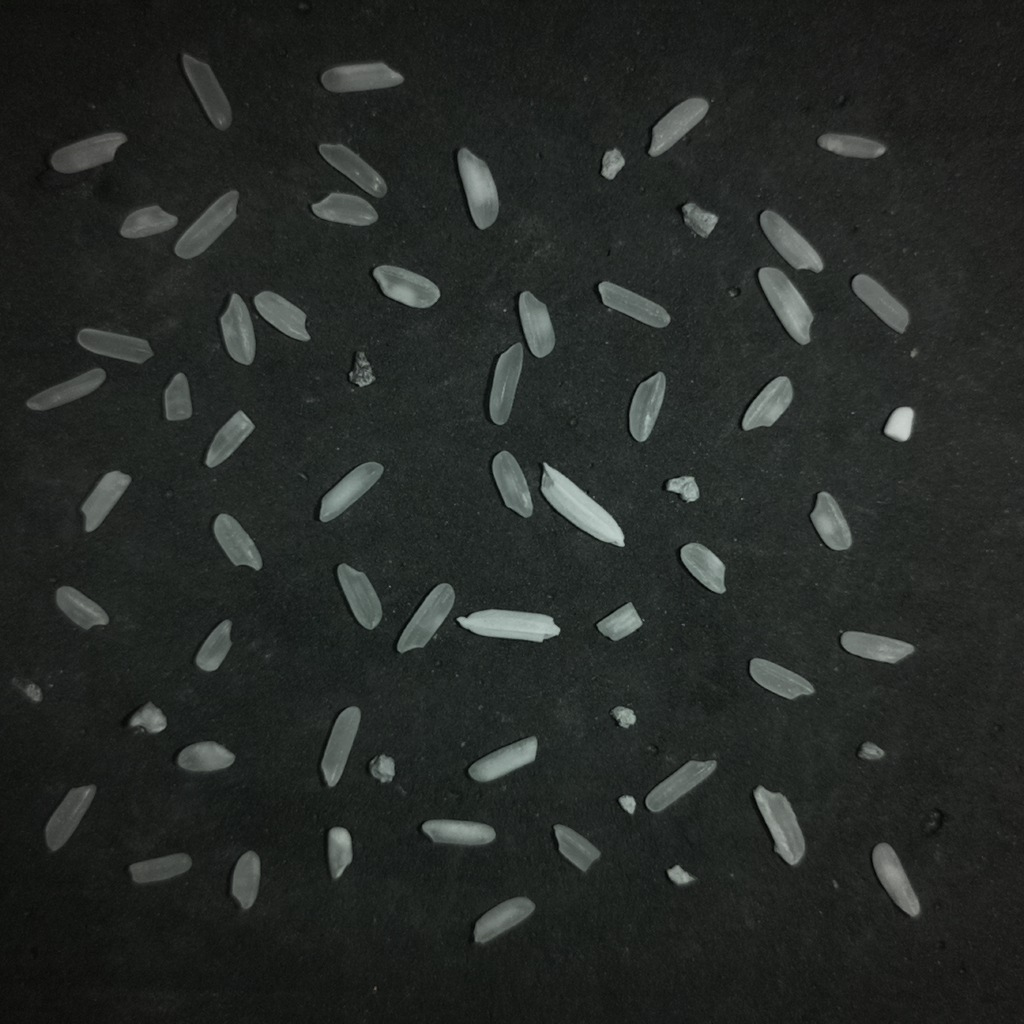broken: (163, 372, 193, 422)
chalky: (757, 267, 812, 344), (759, 210, 823, 272), (754, 786, 804, 865), (319, 461, 383, 522), (648, 97, 708, 155), (872, 843, 919, 916), (457, 148, 498, 229), (468, 736, 538, 783), (50, 132, 126, 173), (80, 470, 131, 531), (205, 410, 255, 468), (372, 265, 439, 308), (474, 896, 534, 943), (741, 376, 793, 430), (254, 291, 309, 340), (219, 293, 255, 364), (320, 62, 403, 92), (810, 491, 851, 550), (518, 291, 554, 357), (840, 631, 913, 663), (680, 542, 725, 593), (553, 824, 600, 872), (119, 205, 177, 239), (421, 819, 495, 845), (175, 741, 234, 772), (596, 602, 642, 640), (326, 826, 352, 880), (883, 406, 914, 441)
foreign: (541, 464, 624, 545), (456, 609, 559, 642), (681, 202, 718, 238), (127, 702, 166, 733), (666, 475, 699, 502), (349, 350, 373, 385), (368, 754, 395, 783), (601, 148, 624, 180), (666, 864, 695, 886), (610, 705, 635, 728), (857, 742, 884, 760), (617, 795, 635, 814)
whole: (174, 190, 238, 258), (396, 583, 454, 653), (181, 53, 231, 129), (645, 760, 716, 812), (318, 144, 386, 197), (26, 367, 106, 410), (598, 281, 670, 328), (44, 785, 95, 851), (852, 274, 909, 333), (320, 706, 360, 787), (336, 563, 381, 629), (489, 342, 524, 426), (213, 513, 262, 569), (748, 658, 814, 699), (491, 450, 531, 517), (77, 328, 152, 363), (629, 371, 665, 442), (55, 585, 108, 629), (311, 192, 377, 226), (194, 619, 231, 671), (128, 853, 191, 883), (231, 850, 261, 910), (817, 133, 885, 158)
